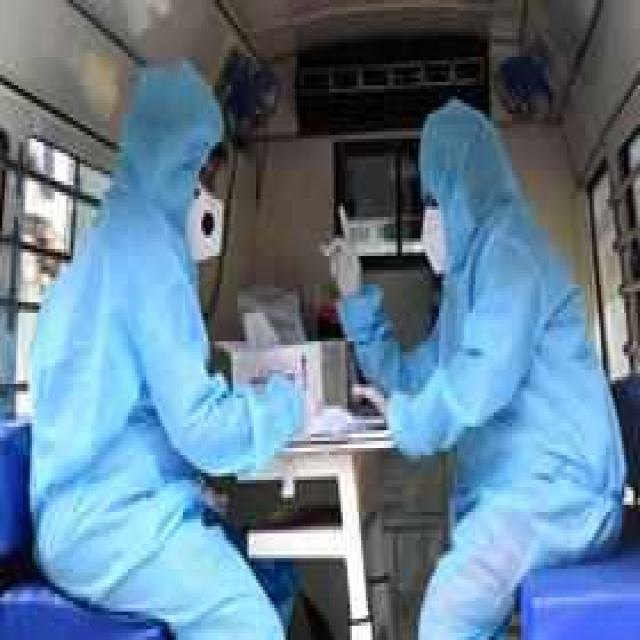Coverall: (308, 85, 640, 636), (20, 61, 311, 636)
Mask: (174, 171, 228, 281), (404, 199, 452, 270)
